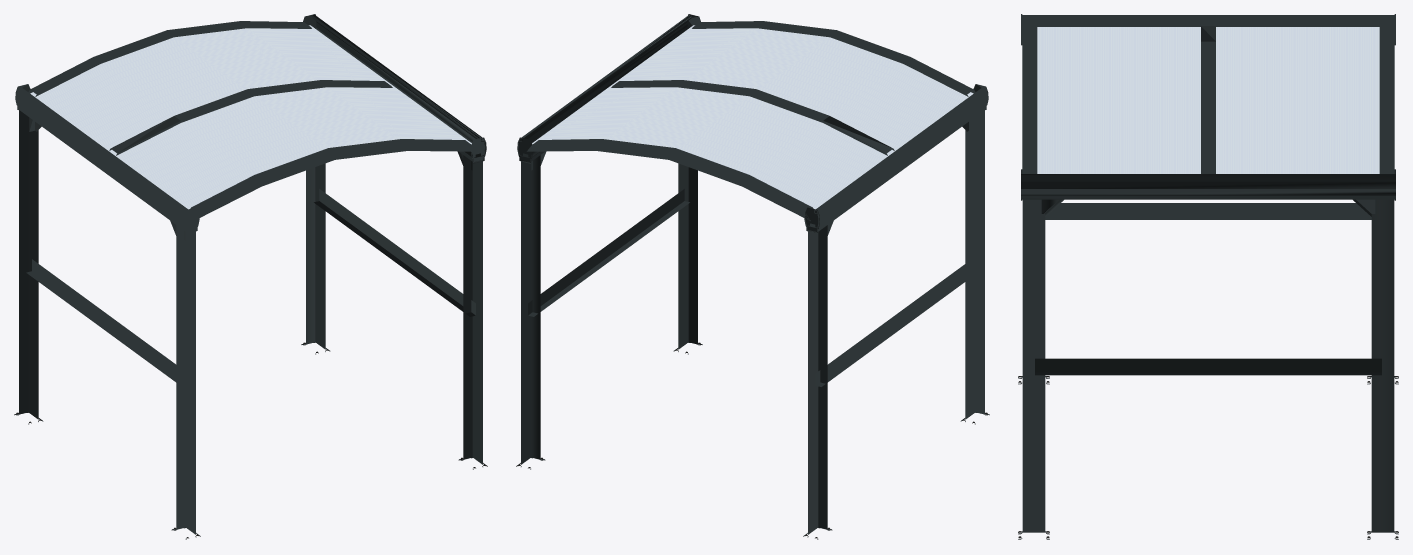
Rendered from 13441_cintree.fbx.
3 renders of one model, left to right at view 1: azimuth 30°, elevation 25°; view 2: azimuth 150°, elevation 25°; view 3: azimuth 270°, elevation 25°, orthographic. The views are drawn at different scales.
Visible parts, largest first — view 1: priximbattable_net_abris_de_barbecue_13441_abris_barbecue_2_; view 2: priximbattable_net_abris_de_barbecue_13441_abris_barbecue_2_; view 3: priximbattable_net_abris_de_barbecue_13441_abris_barbecue_2_.
Boxes of the visible parts, x1=… form: priximbattable_net_abris_de_barbecue_13441_abris_barbecue_2_: x1=14, y1=14, x2=487, y2=539; priximbattable_net_abris_de_barbecue_13441_abris_barbecue_2_: x1=516, y1=14, x2=989, y2=539; priximbattable_net_abris_de_barbecue_13441_abris_barbecue_2_: x1=1018, y1=14, x2=1398, y2=539.
Size of the model in its own units: 206 by 228 by 203.
Materials: 1 (1 with a texture image).
